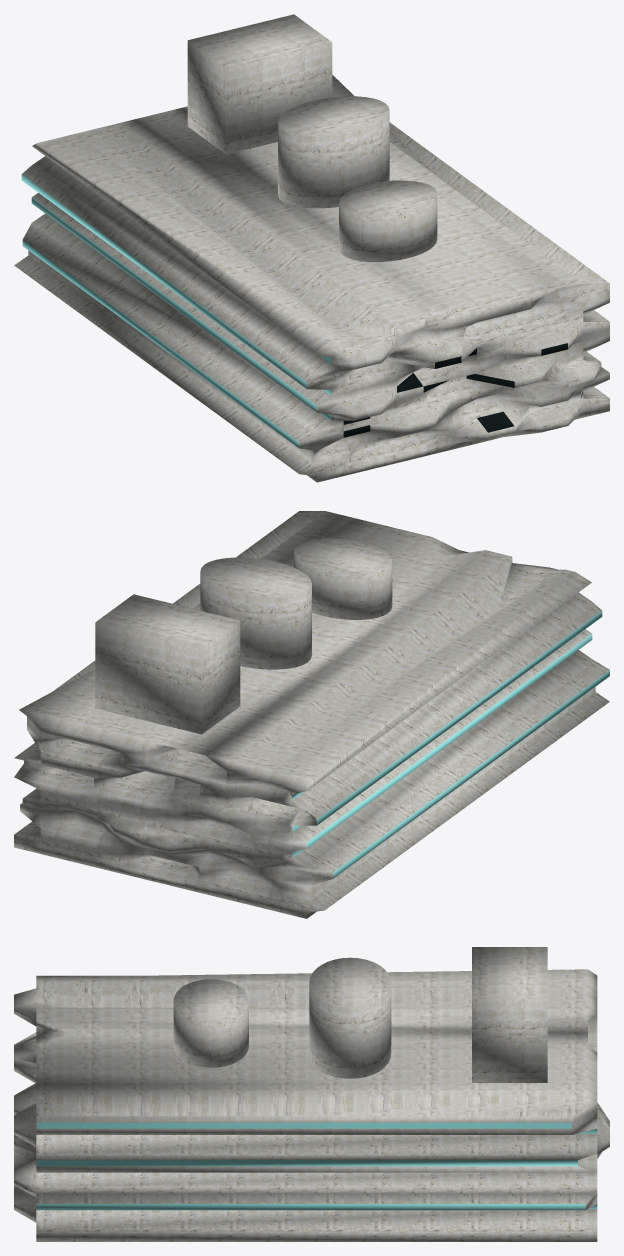
Rendered from LowApartment.gltf.
The picture shows the model from 3 angles, top to bottom: view 1: azimuth 30°, elevation 25°; view 2: azimuth 150°, elevation 25°; view 3: azimuth 270°, elevation 25°; orthographic projection.
Parts seen in each view (by area): view 1: Cube; view 2: Cube; view 3: Cube.
Part boxes in pixels (bbox=[...]): Cube: bbox=[14, 14, 609, 482]; Cube: bbox=[14, 511, 609, 918]; Cube: bbox=[14, 947, 609, 1241].
Size of the model in its own units: 50.93 by 34.49 by 86.
